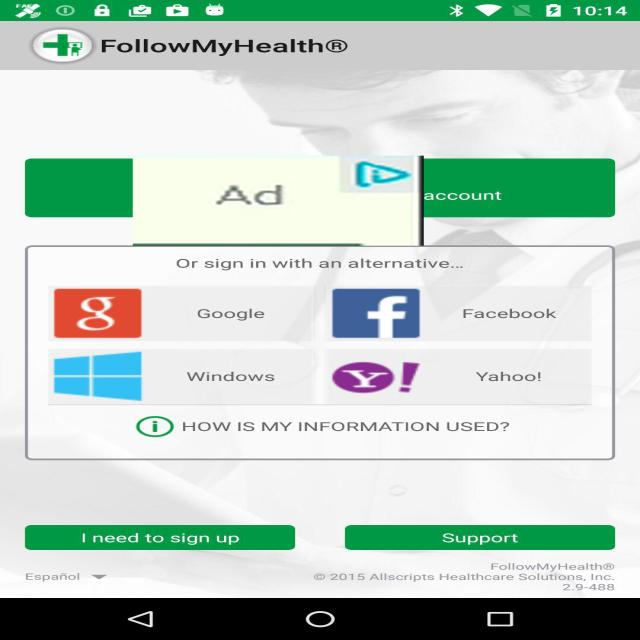sneaking: (132, 156, 424, 246)
